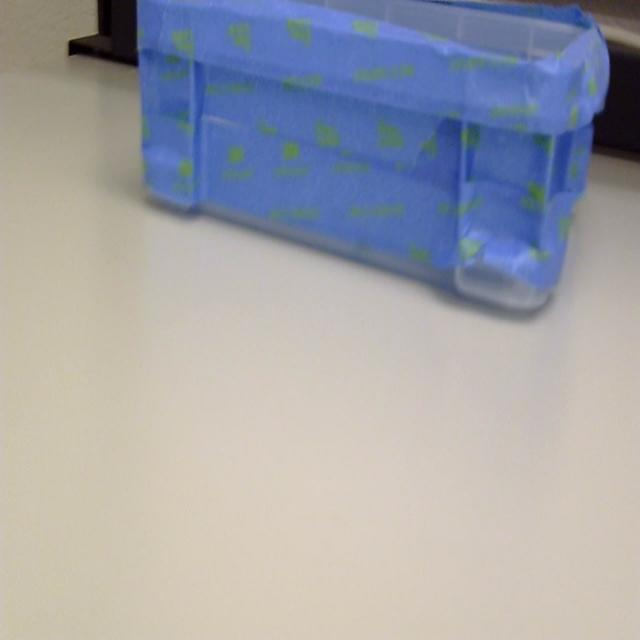bucket: (135, 0, 612, 319)
